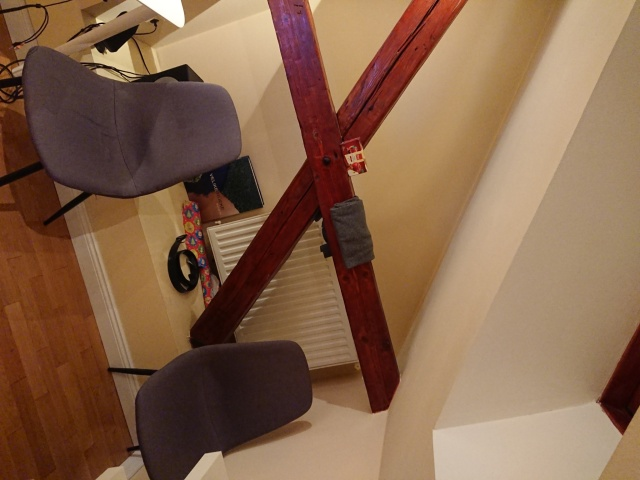Franck Apple Cinnamon Tea 60g: (337, 134, 370, 178)
